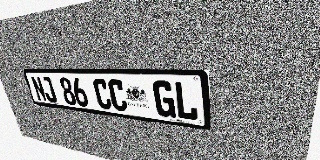6: (70, 78, 89, 107)
8: (58, 77, 77, 106)
C: (107, 79, 128, 112), (92, 78, 113, 110)
G: (152, 80, 176, 118)
J: (40, 76, 58, 103)
L: (173, 81, 198, 121)
N: (30, 76, 48, 102)
